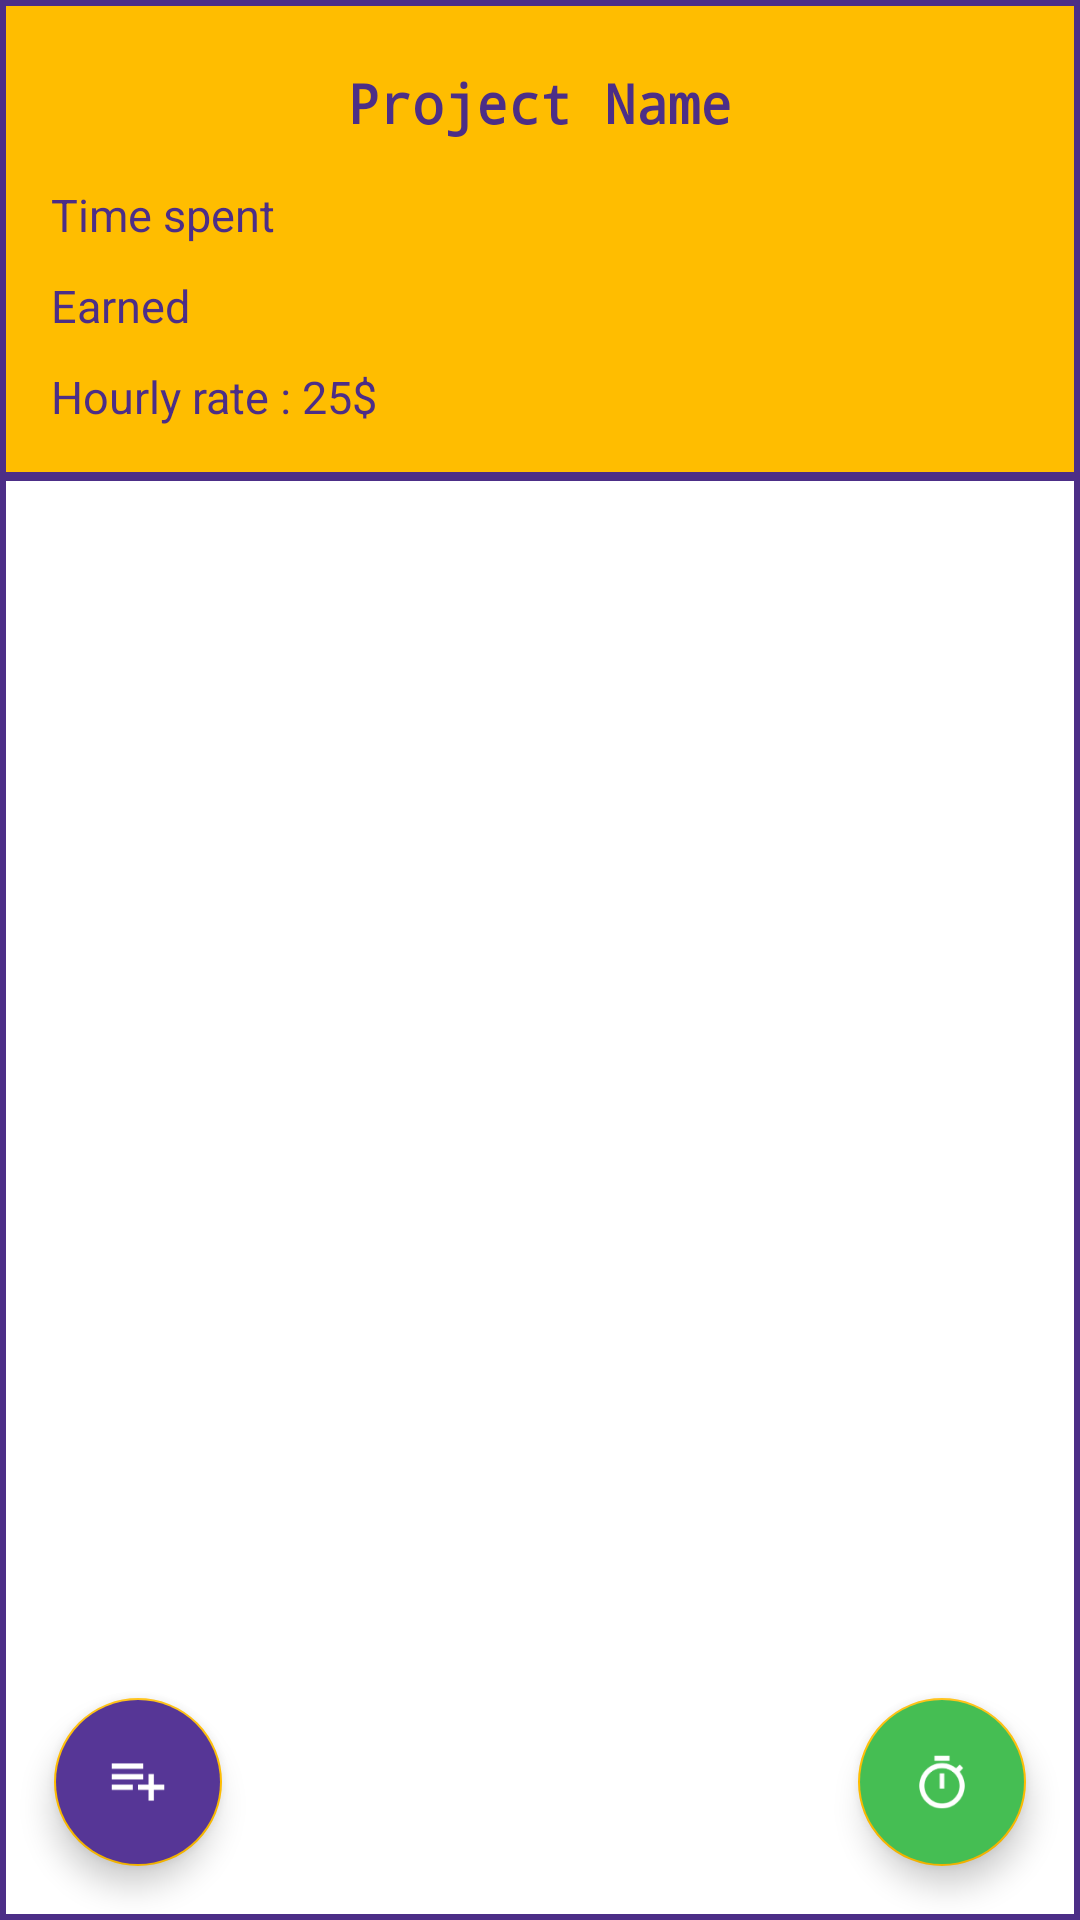

Screen size 1080px×1920px. Icon name, then its box in pixels as (x1, y1, x2, y2):
task add: (54, 1698, 222, 1866)
timelog add: (858, 1698, 1026, 1866)
